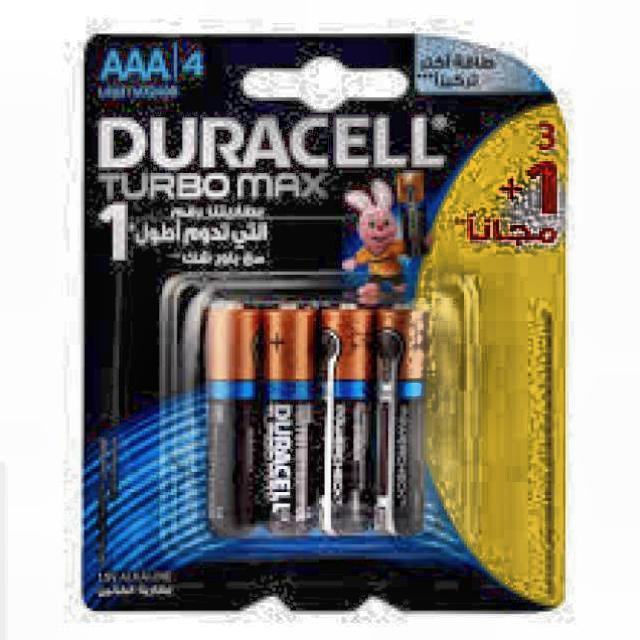Non-Valuable Waste - Batteries: (84, 34, 566, 605), (263, 303, 314, 532)
